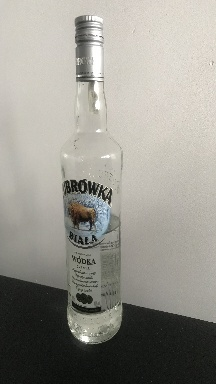butelka: (58, 10, 123, 346)
